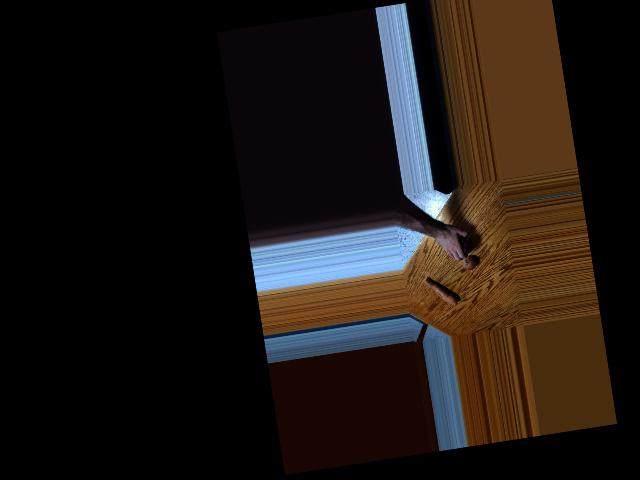onion: (456, 238, 473, 256)
